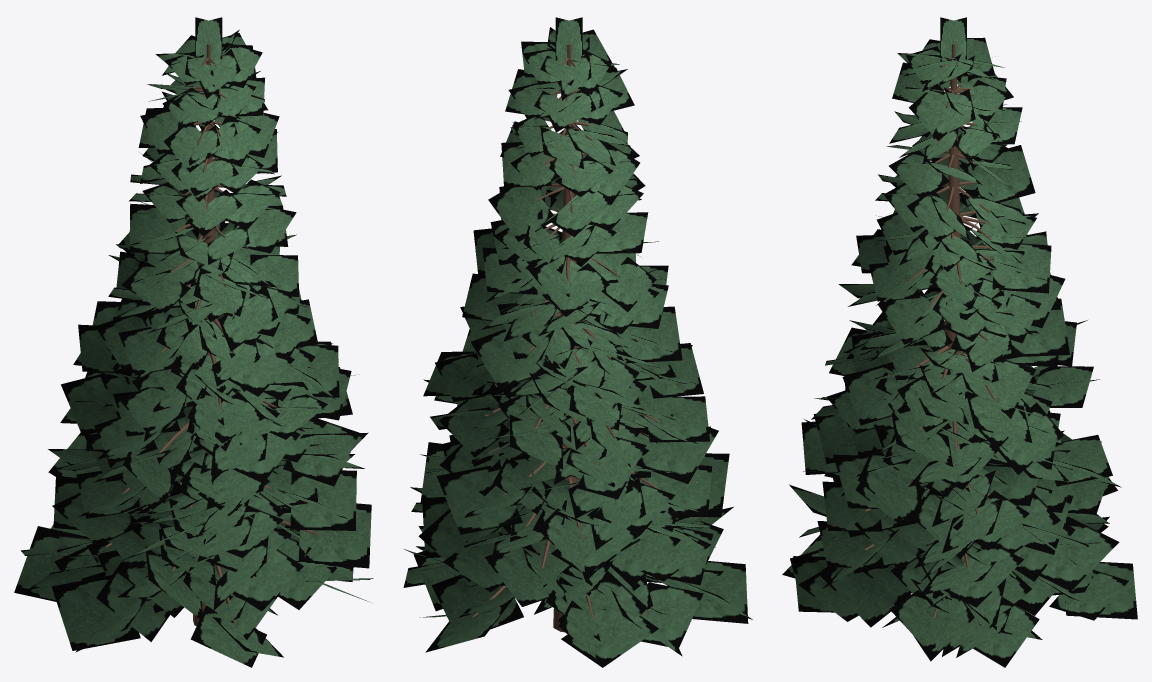
Rendered from pine_1.glb.
The picture shows the model from 3 angles, left to right: view 1: azimuth 30°, elevation 25°; view 2: azimuth 150°, elevation 25°; view 3: azimuth 270°, elevation 25°; orthographic projection.
Parts seen in each view (by area): view 1: pine_1; view 2: pine_1; view 3: pine_1.
Part boxes in pixels (x1,y1,x2,y2): pine_1: (14,17,373,667); pine_1: (403,17,752,667); pine_1: (782,17,1137,667).
Bounding box in the file's own units: 6.92 × 12.9 × 6.9.
2 materials, 1 textured.
